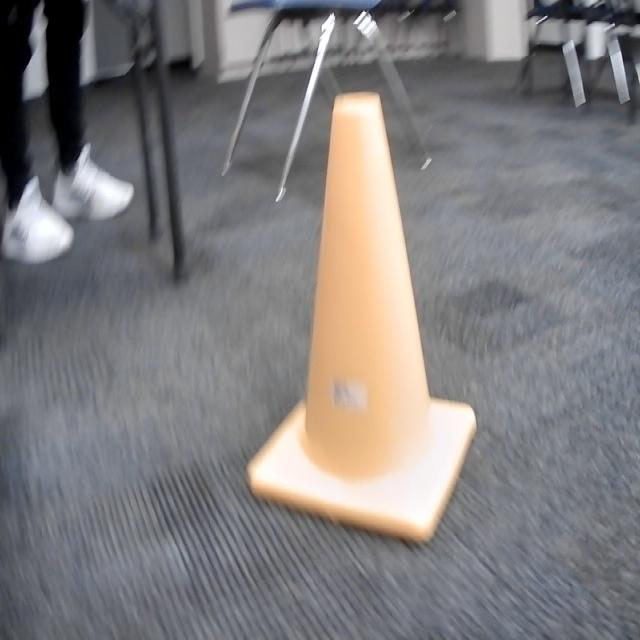cone: (247, 90, 478, 545)
